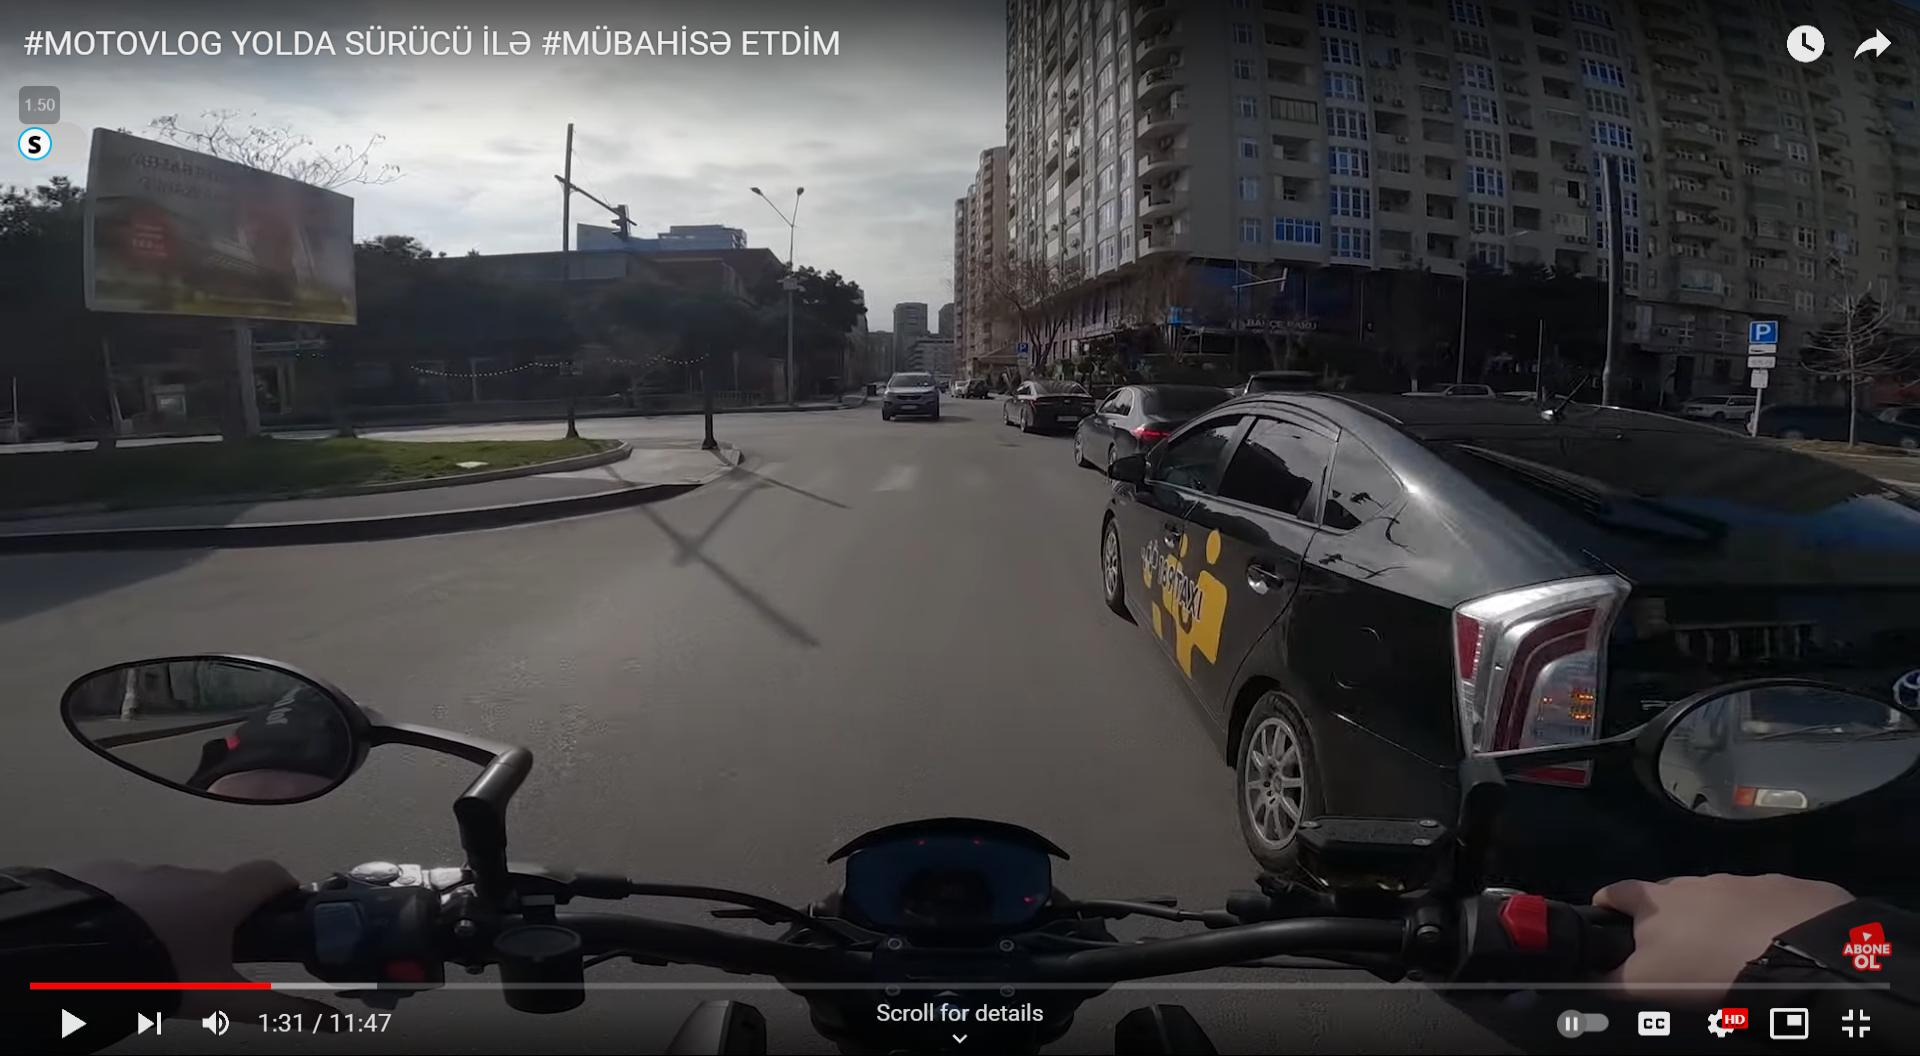banner: (80, 126, 363, 329)
